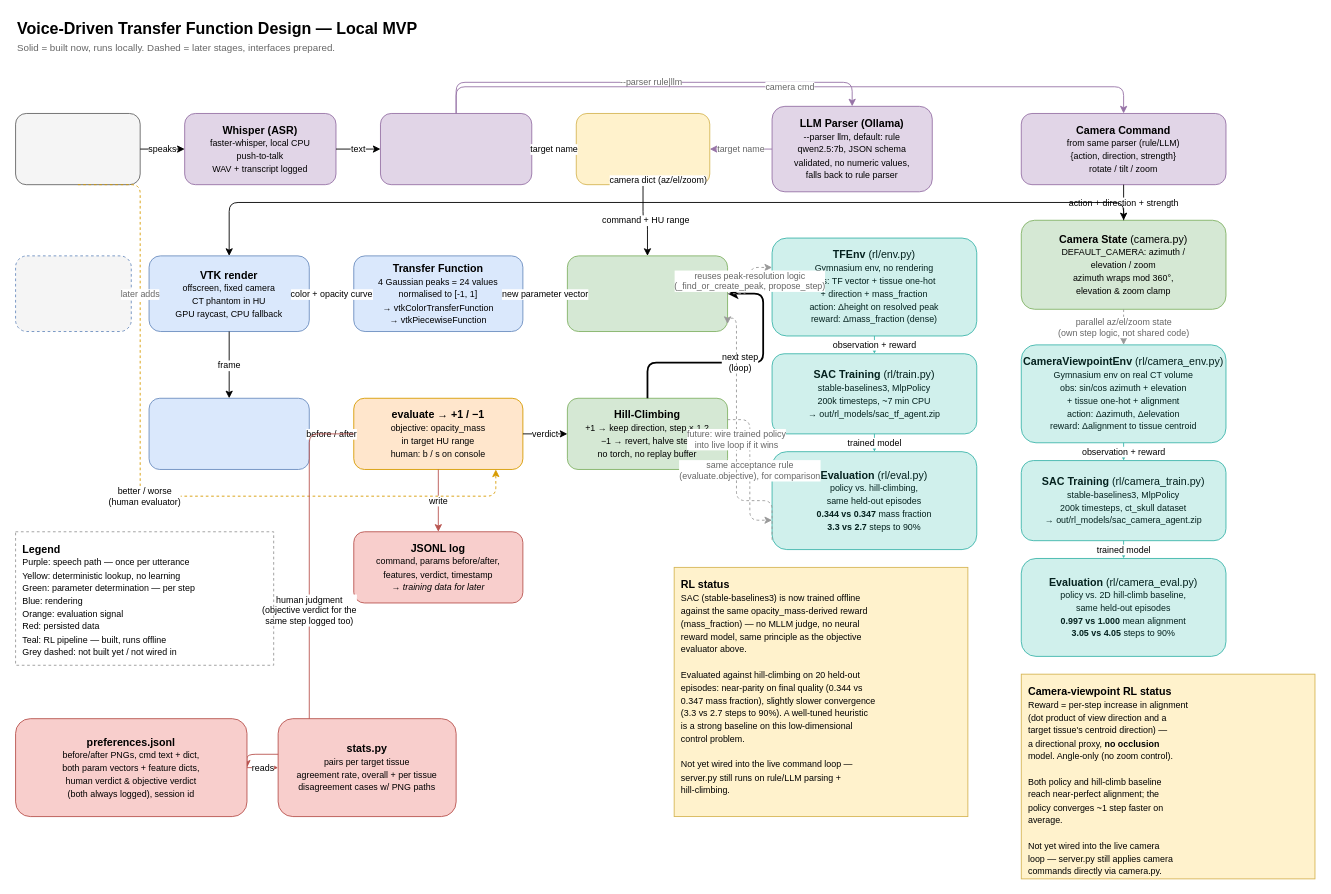
This 1331x894 diagram has some shape labels left out. Each missing label, with the centre of its shape:
apply_command fixed heuristic picks nearest peak, scales its height: the point at 647,293
Image Features mean, std, coverage, entropy + PNG per step: the point at 228,433
Rule-based Parser text → command dict {target, attribute, direction, strength}: the point at 456,149
Tissue Lookup Hounsfield ranges air / fat / soft / spongy / bone: the point at 642,149
User speaks, judges better / worse: the point at 77,149
VTK-VRUI stereo output, HMD TF overlay on histogram: the point at 73,293
